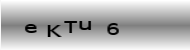6: (105, 22, 120, 36)
K: (46, 24, 63, 38)
T: (63, 20, 78, 34)
e: (24, 23, 37, 35)
u: (77, 19, 92, 31)
